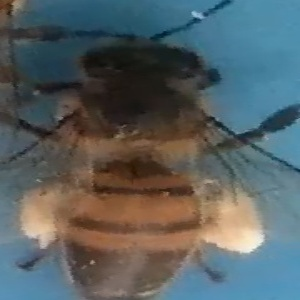bee: (48, 25, 300, 297)
